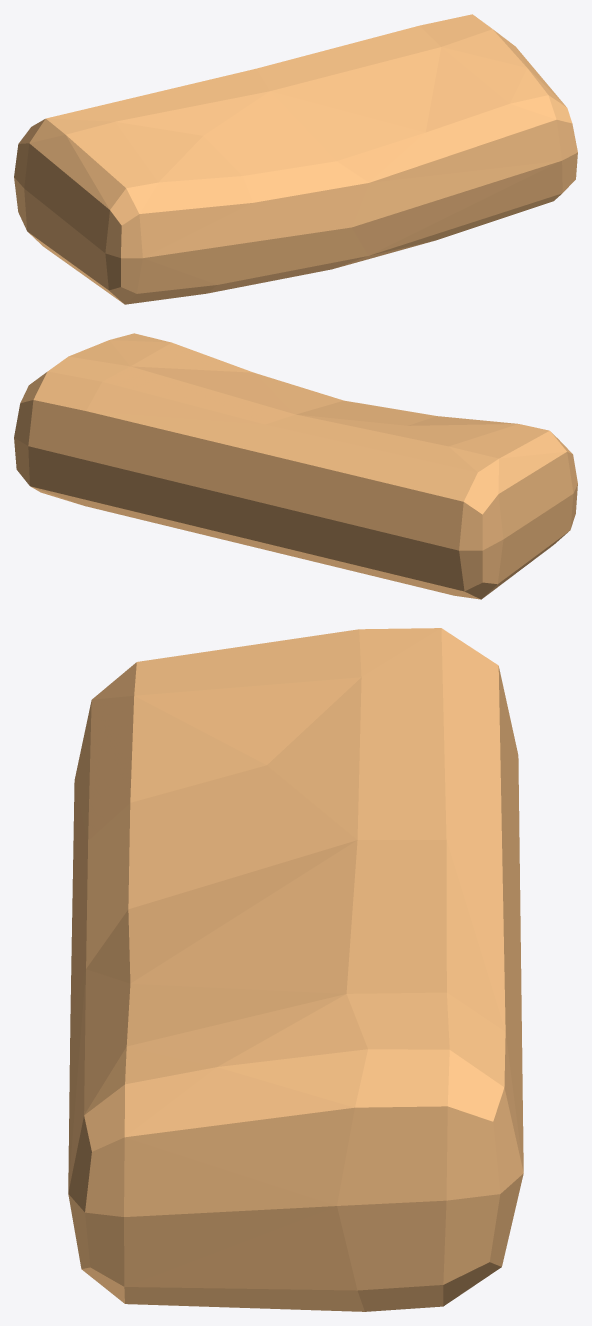
Rendered from Sandbag 02.fbx.
3 renders of one model, top to bottom at view 1: azimuth 30°, elevation 25°; view 2: azimuth 150°, elevation 25°; view 3: azimuth 270°, elevation 25°, orthographic. The views are drawn at different scales.
Visible parts, largest first — view 1: Sandbag 02; view 2: Sandbag 02; view 3: Sandbag 02.
Part boxes in pixels (x1,y1,x2,y2): Sandbag 02: (14,14,577,304); Sandbag 02: (14,333,577,599); Sandbag 02: (68,628,523,1311).
Size of the model in its own units: 68.69 by 19.66 by 28.27.
